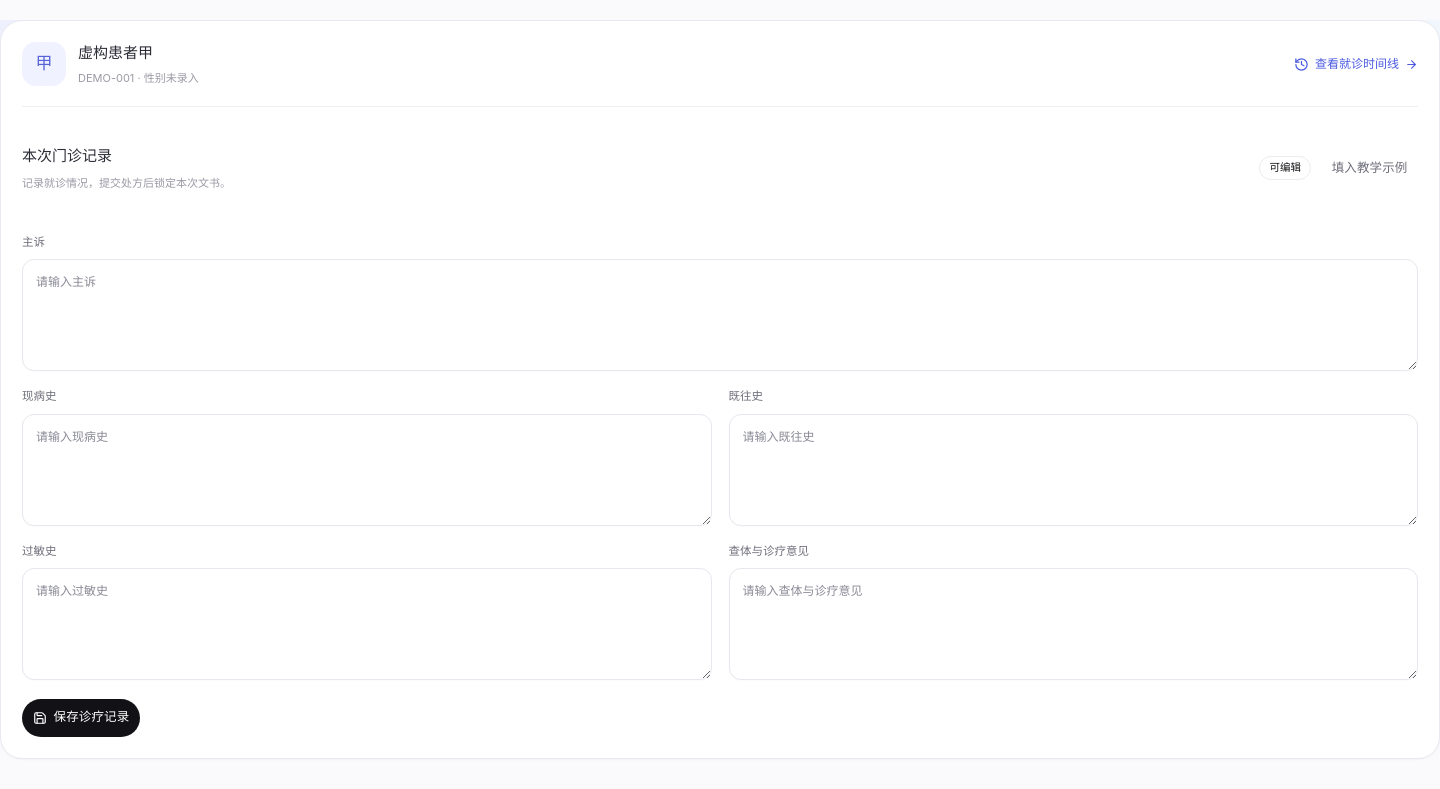
it: visible outpatient enhancements › keeps the saved clinical note and success message after refreshing from the server
This screenshot has width=1440, height=789.
Click the button "填入教学示例" at (1370, 168), box [1321,149,1418,187]
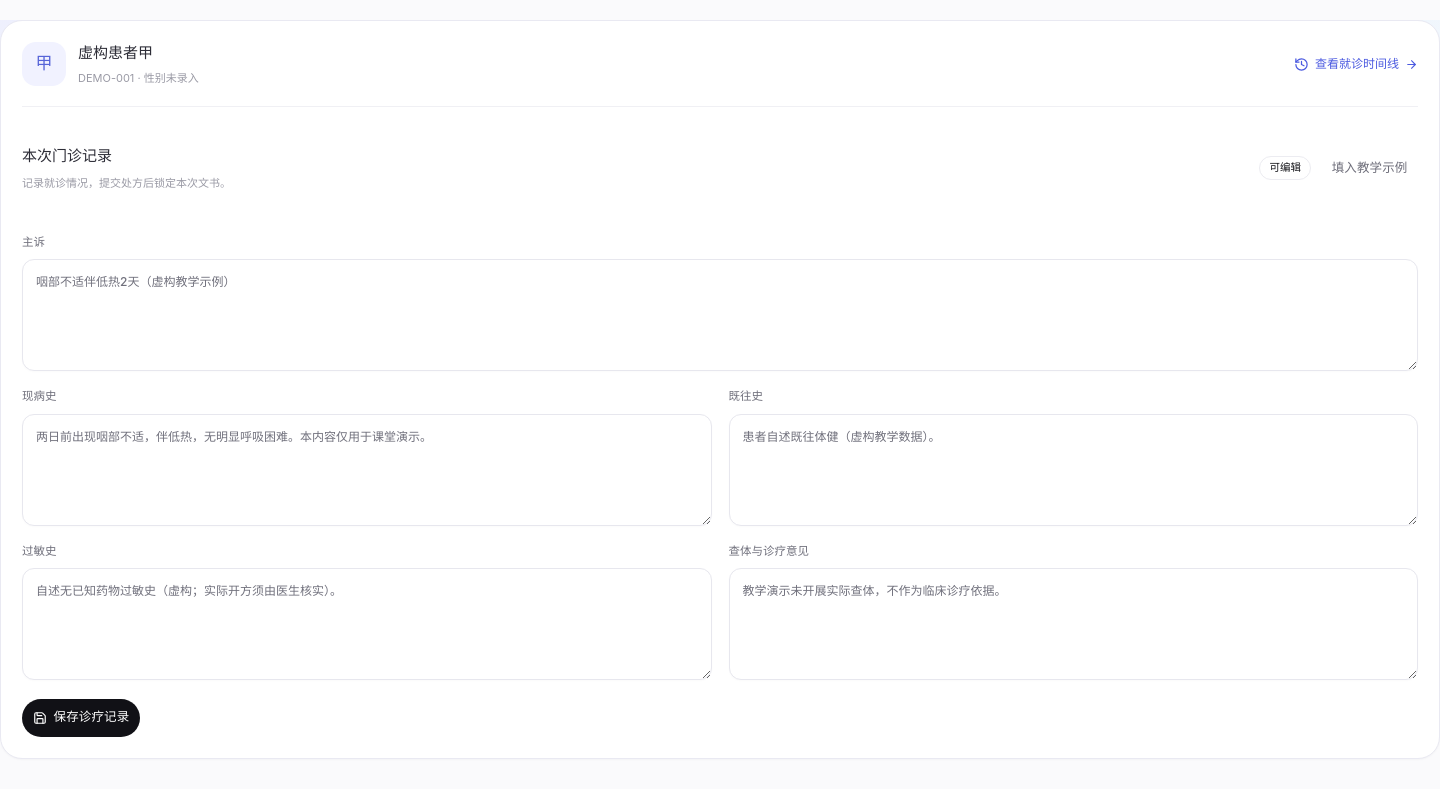
Click the button "保存诊疗记录" at (81, 718), box [22,699,140,737]
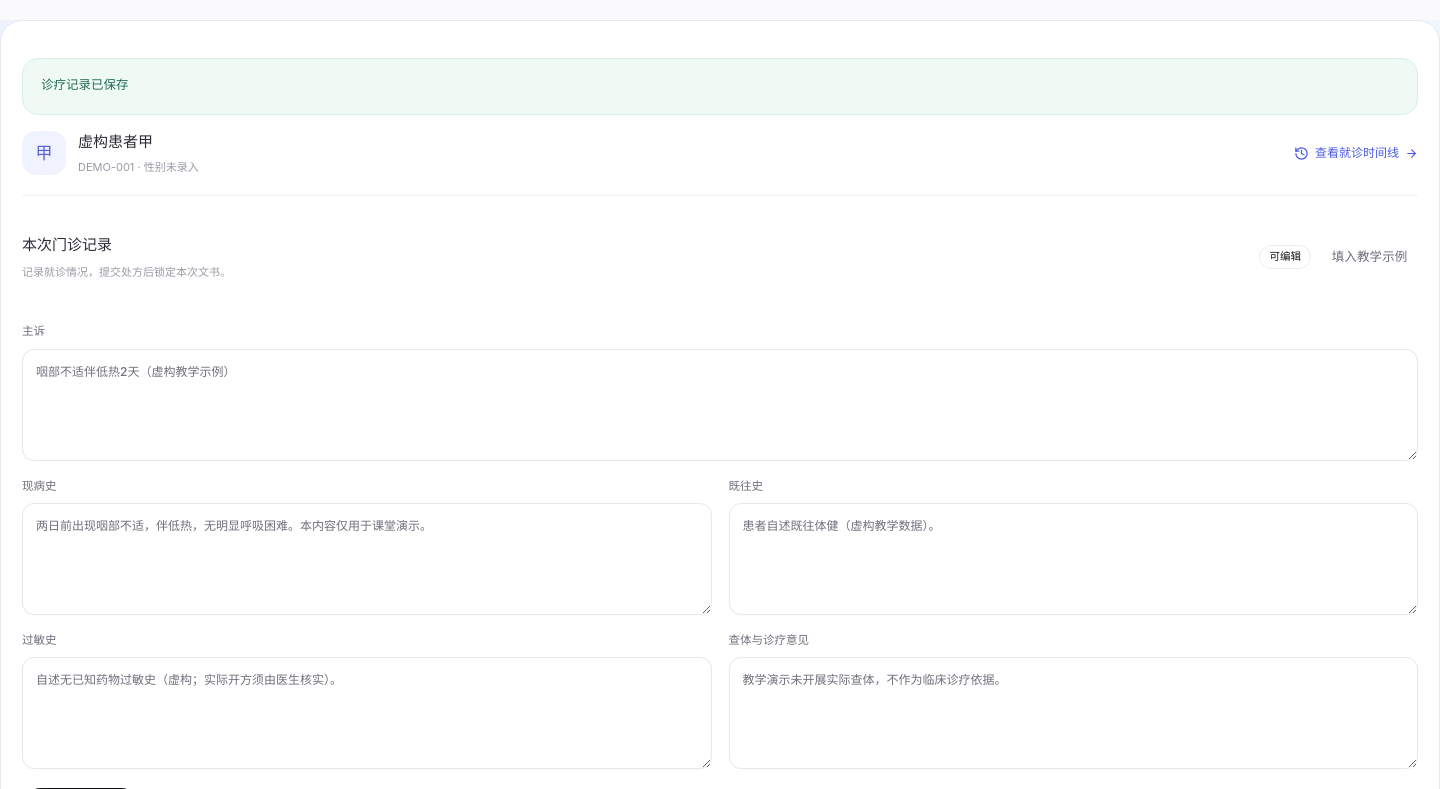
Result: the text box labelled "主诉" holds "咽部不适伴低热2天（虚构教学示例）" at [22,348,1418,460]
Result: the text "诊疗记录已保存" is shown at [41,77,128,92]
